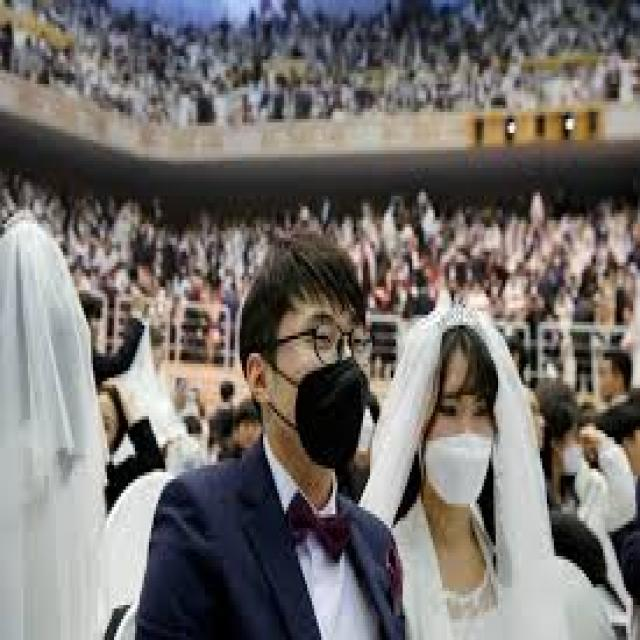mask: (240, 161, 376, 489), (408, 312, 504, 614)
